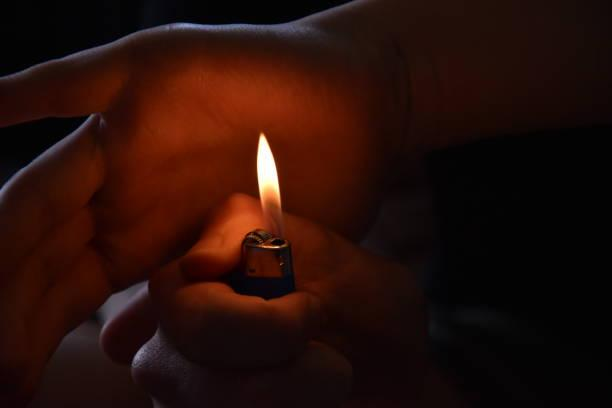Fire: (251, 127, 288, 237)
